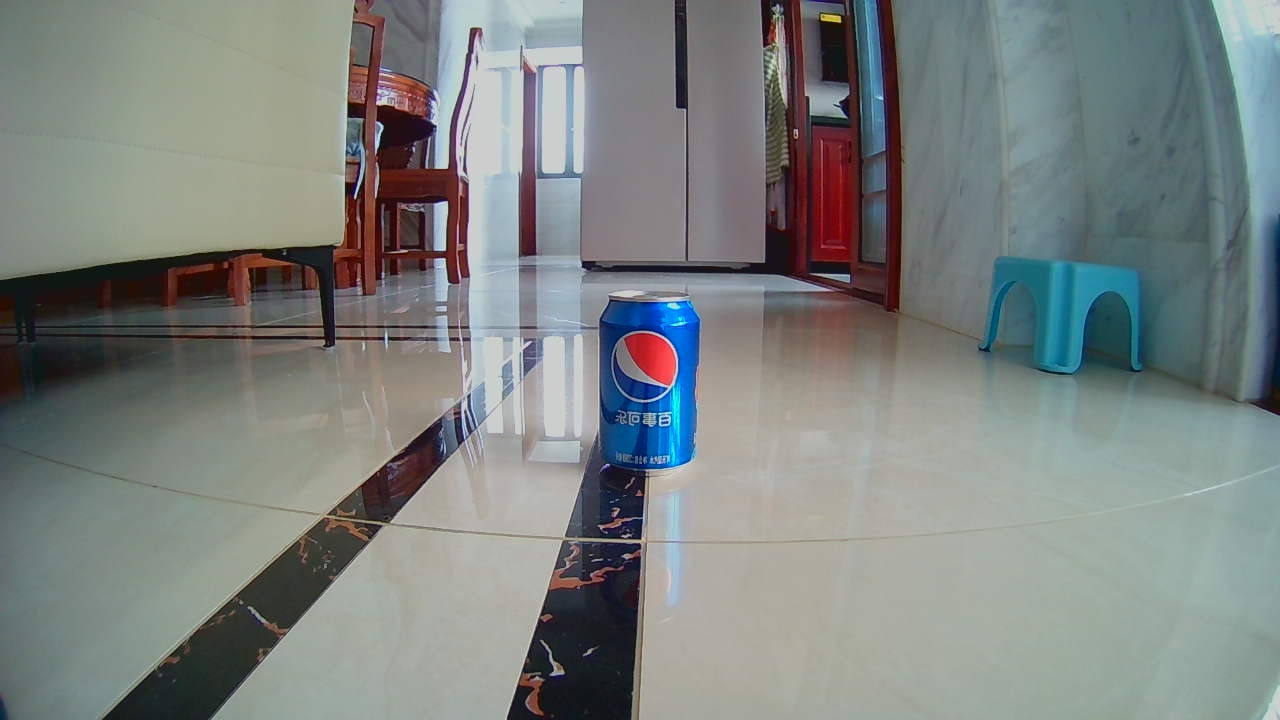pessi: (599, 290, 695, 467)
